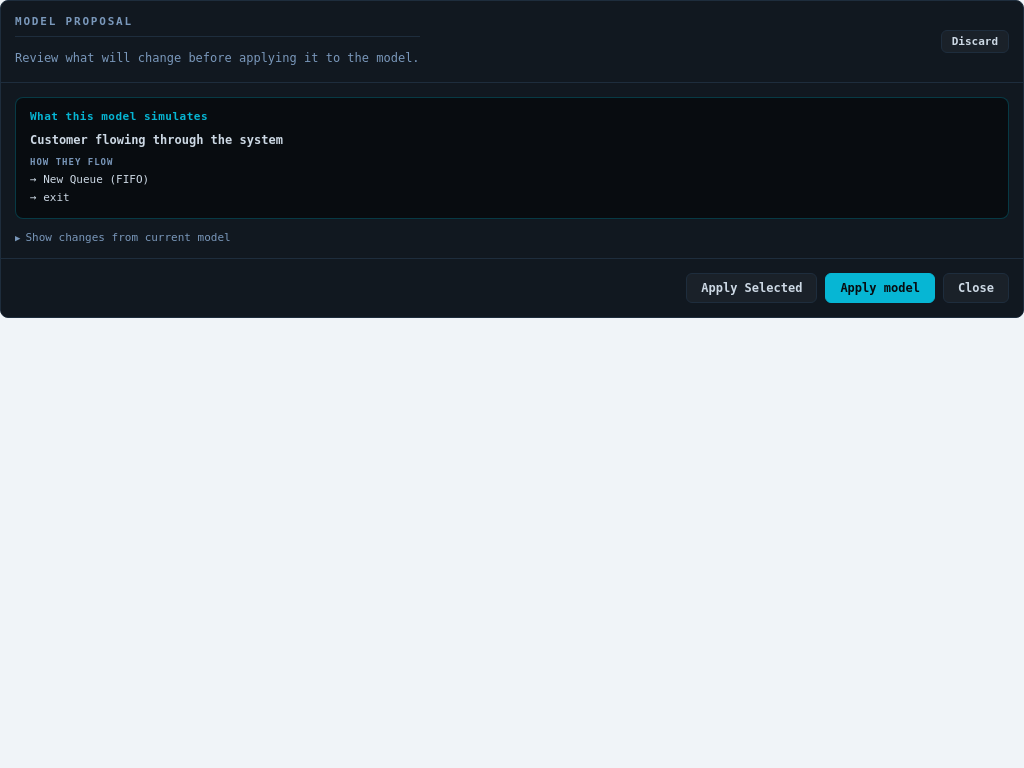
Test: ModelDiffPreview › shows technical changes toggle and reveals diff on click
Expected: the text "sections changed" is not shown
// Click toggle
Click the button "▶ Show changes from current model" at (123,238), box x1=15 y1=231 x2=231 y2=244
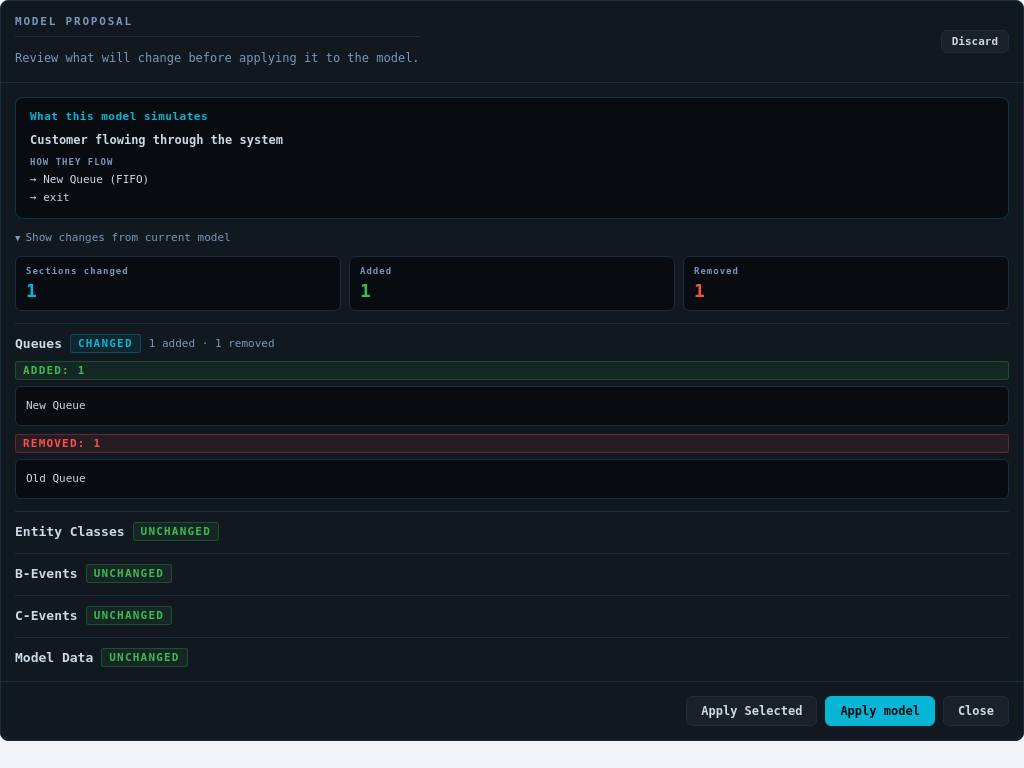
Expected: the text "Sections changed" is shown, x1=26 y1=266 x2=129 y2=276
